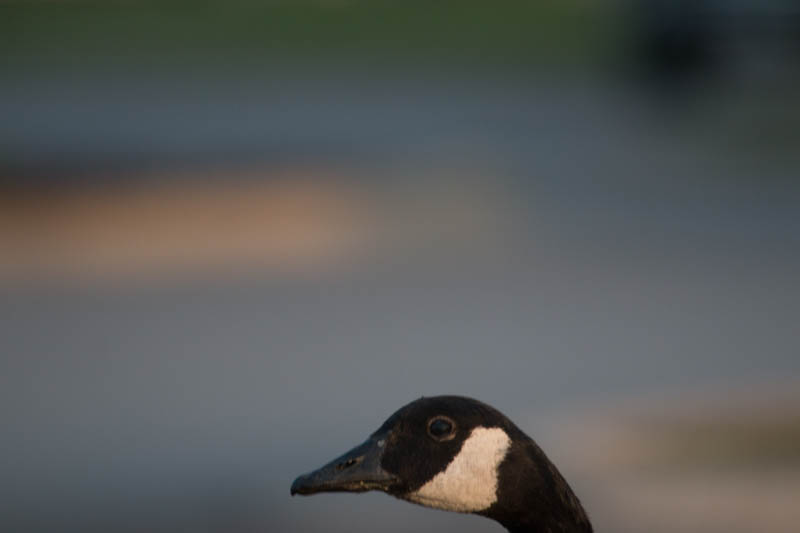goose-head: (290, 394, 536, 524)
